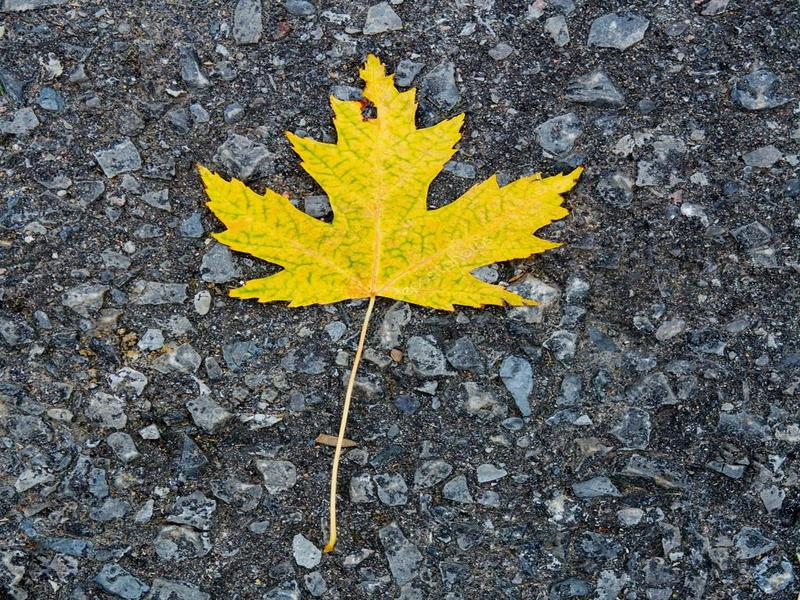leaf: (181, 50, 589, 557)
